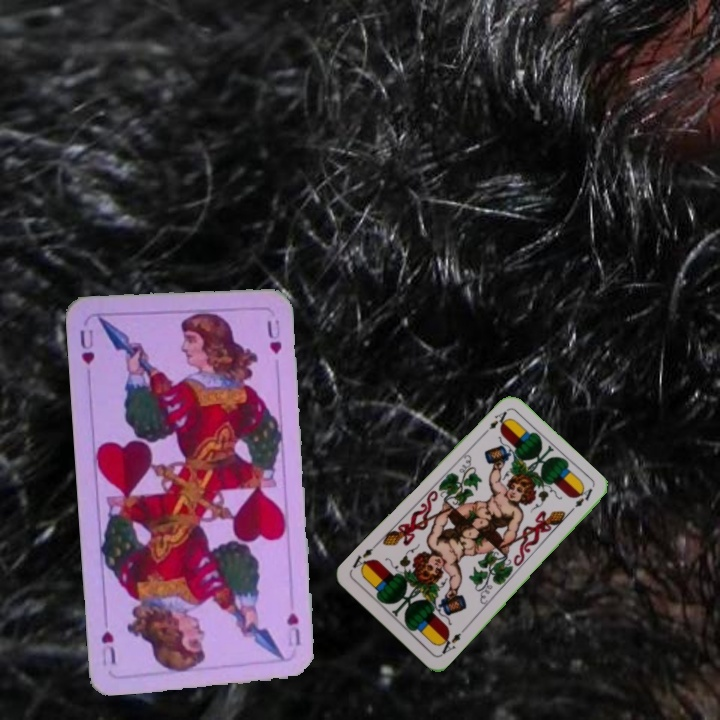EA: (435, 625, 467, 659), (478, 406, 510, 438)
HU: (76, 326, 98, 367), (282, 609, 303, 649)
